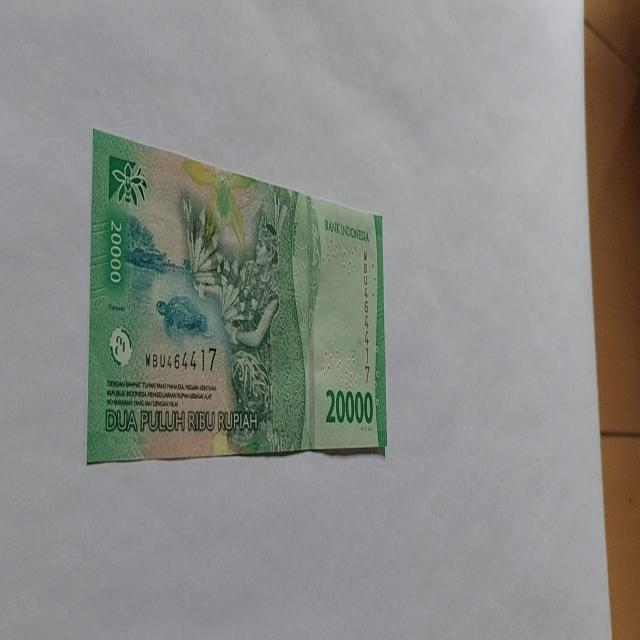dua puluh ribu rupiah: (86, 129, 388, 465)
